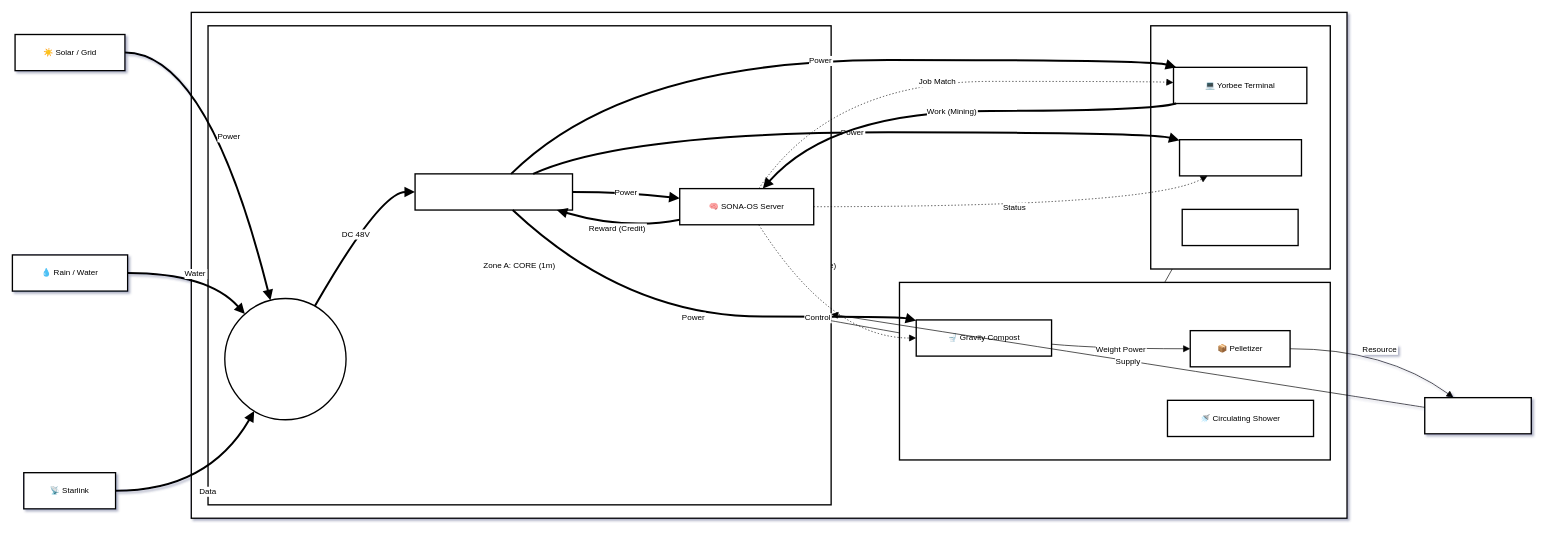
This 1547x534 diagram has some shape labels left out. The box of each missing label's shape, as (x1, y1, x2, y2) in pixels:
Zone B: WET (2m): (898, 281, 1331, 460)
🔋 LFP / Reused EV Batt: (414, 173, 573, 210)
🔌 SBCM-DIN Interface: (224, 297, 346, 420)
🖥️ Wall Interface: (1179, 139, 1302, 176)
🚁 Aetos Port: (1424, 397, 1532, 434)
🛏️ Capsule Bed: (1181, 208, 1298, 246)
